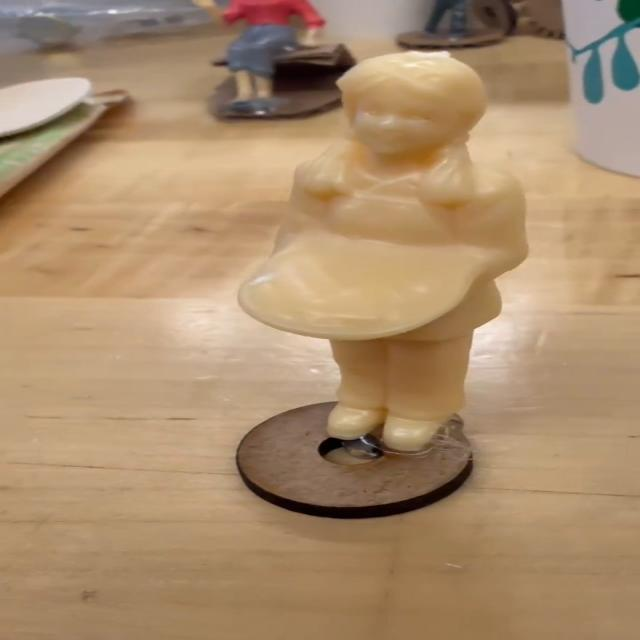Unauthorized: (204, 56, 588, 508)
